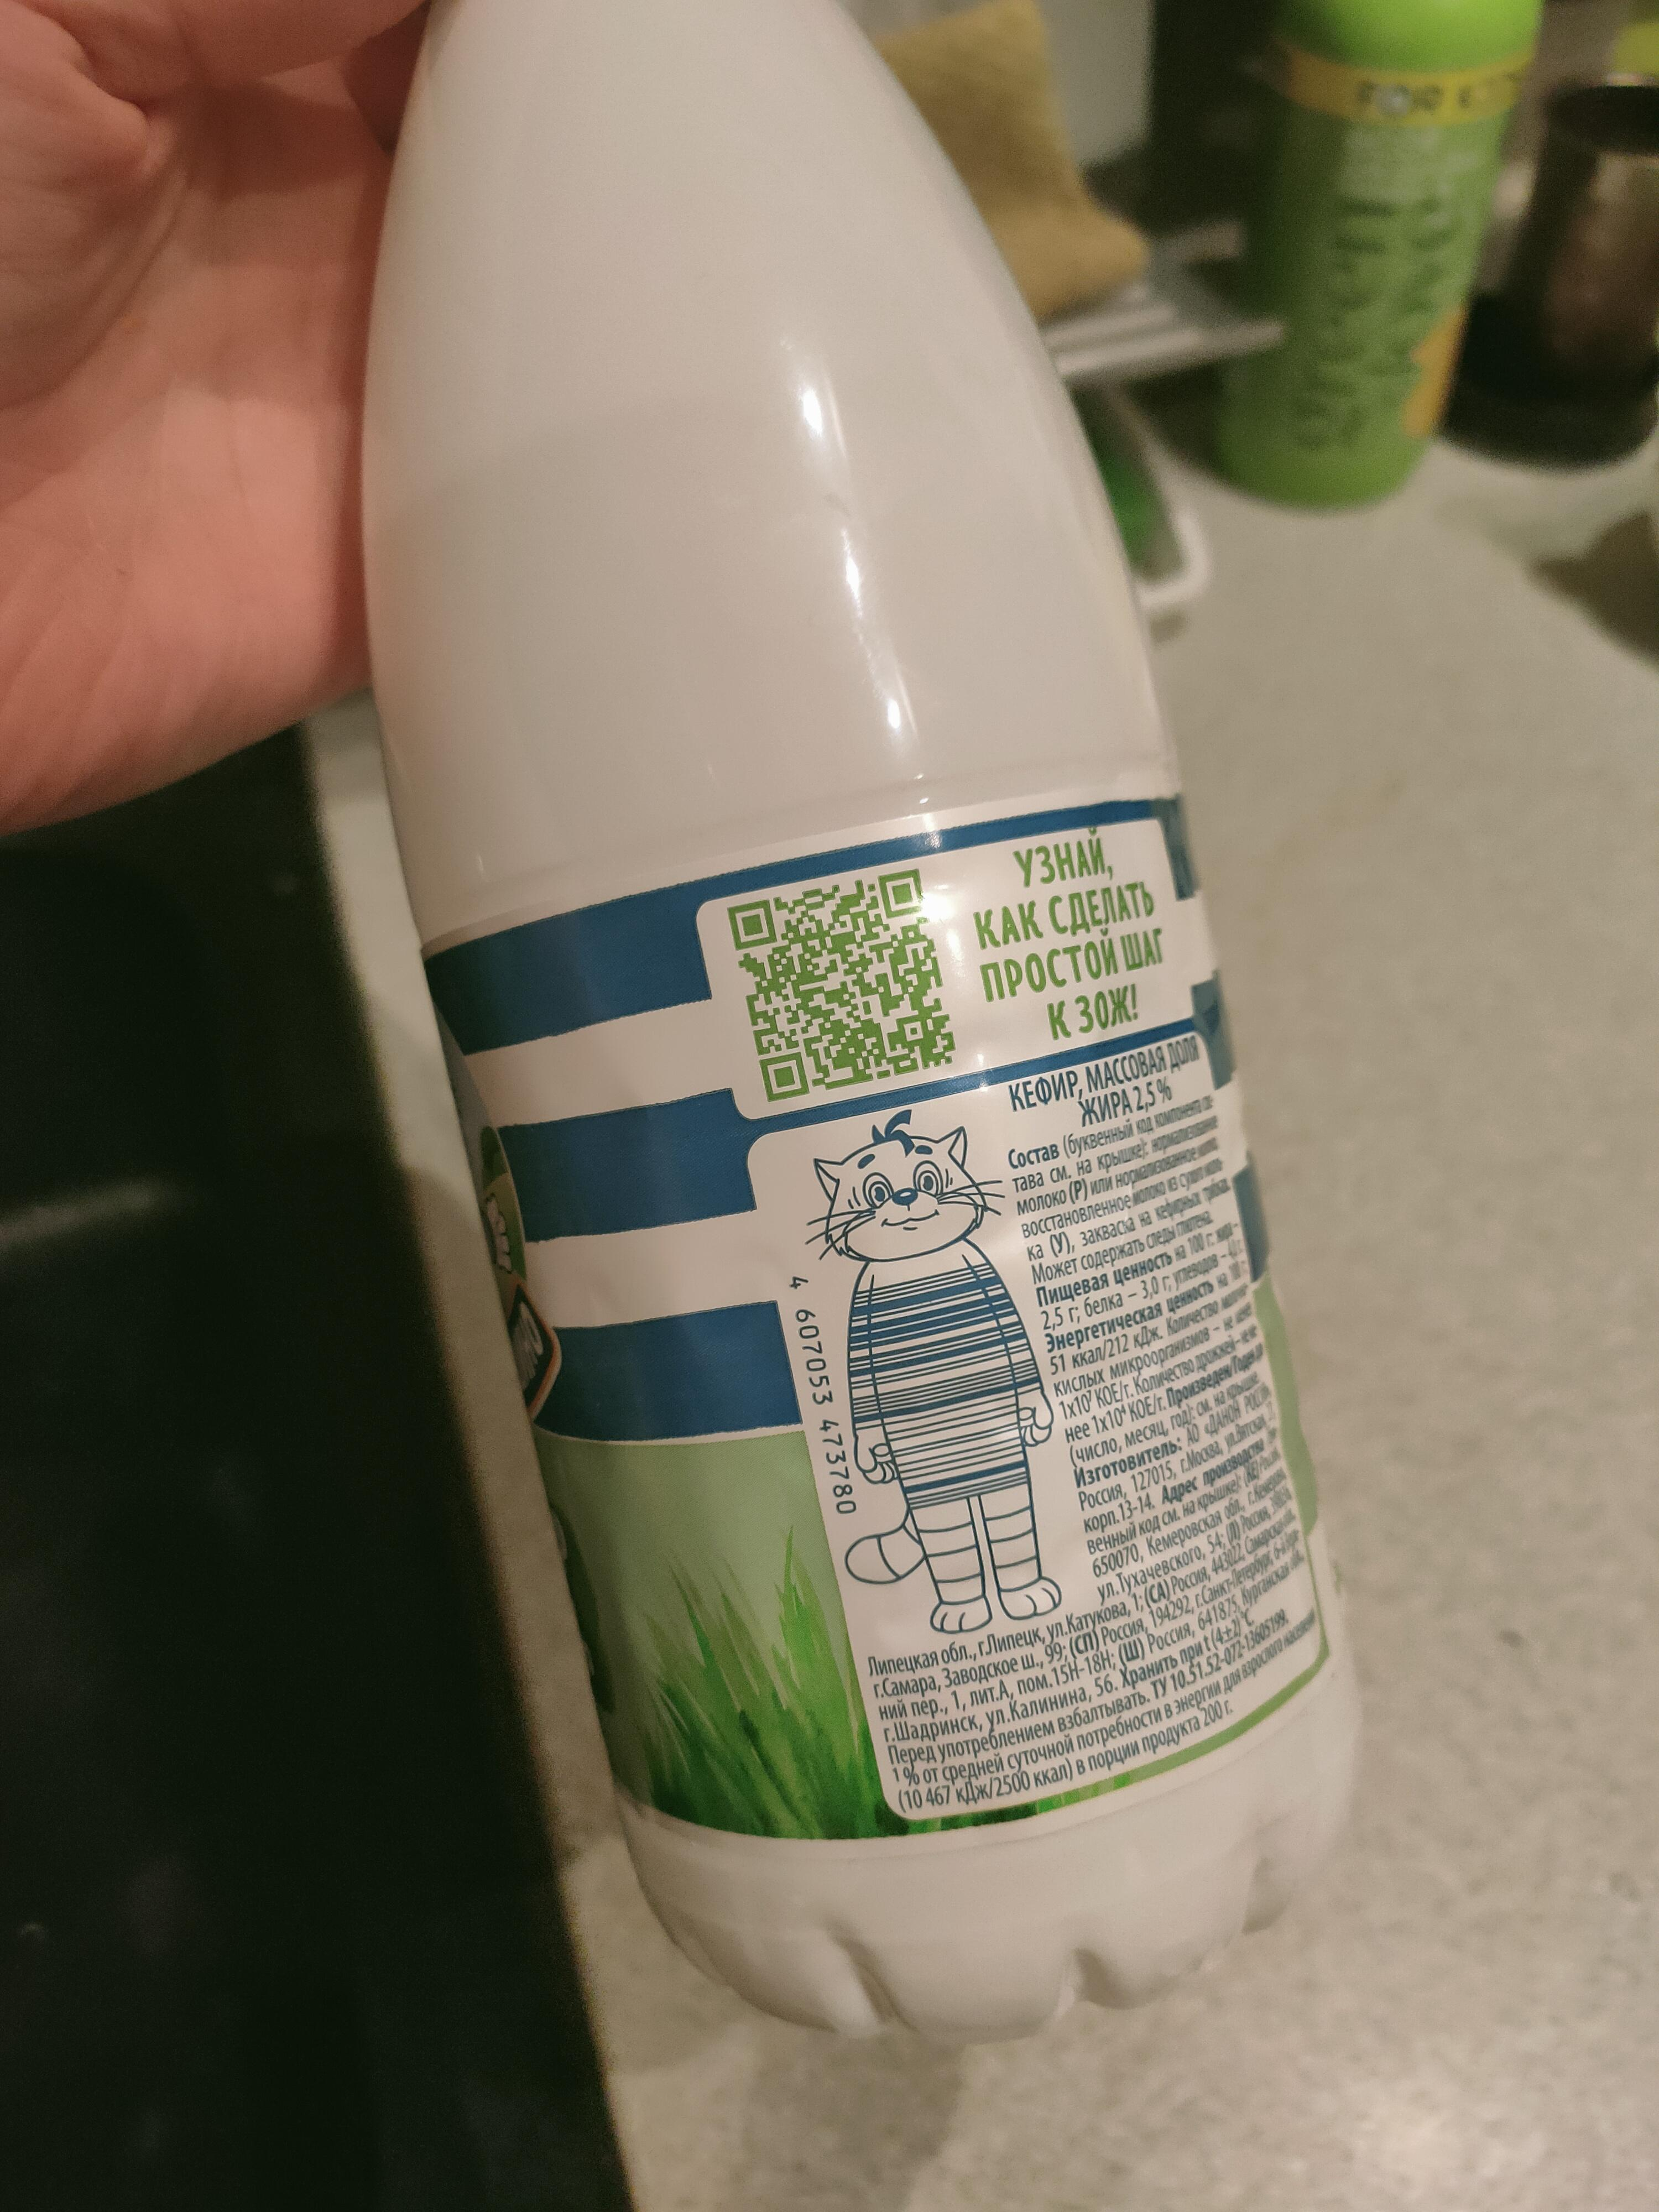qrcode: (730, 866, 960, 1104)
